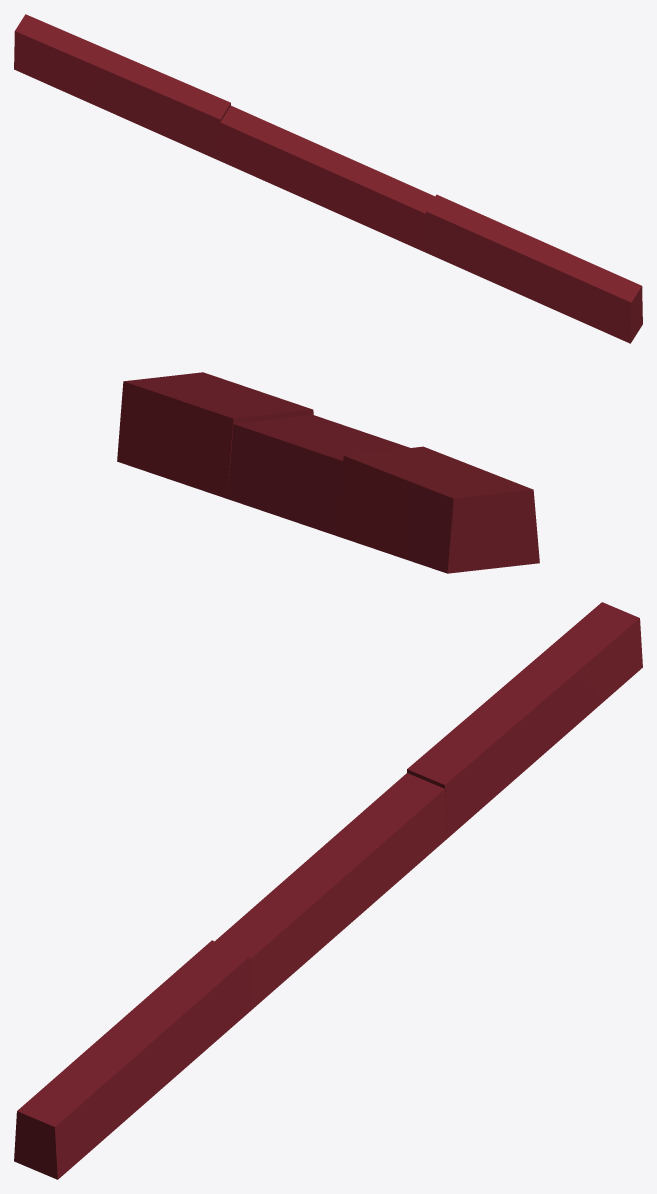
The model's file is BRoofTopCornerTrim_A.fbx.
3 renders of one model, top to bottom at view 1: azimuth 30°, elevation 25°; view 2: azimuth 150°, elevation 25°; view 3: azimuth 270°, elevation 25°, orthographic. The views are drawn at different scales.
Visible parts, largest first — view 1: BRoofTopCornerTrim_A; view 2: BRoofTopCornerTrim_A; view 3: BRoofTopCornerTrim_A.
Boxes of the visible parts, x1,y1,x2,y2 form: BRoofTopCornerTrim_A: (14, 14, 642, 343); BRoofTopCornerTrim_A: (117, 372, 539, 573); BRoofTopCornerTrim_A: (14, 602, 642, 1179).
Bounding box in the file's own units: 430 × 236 × 430.
